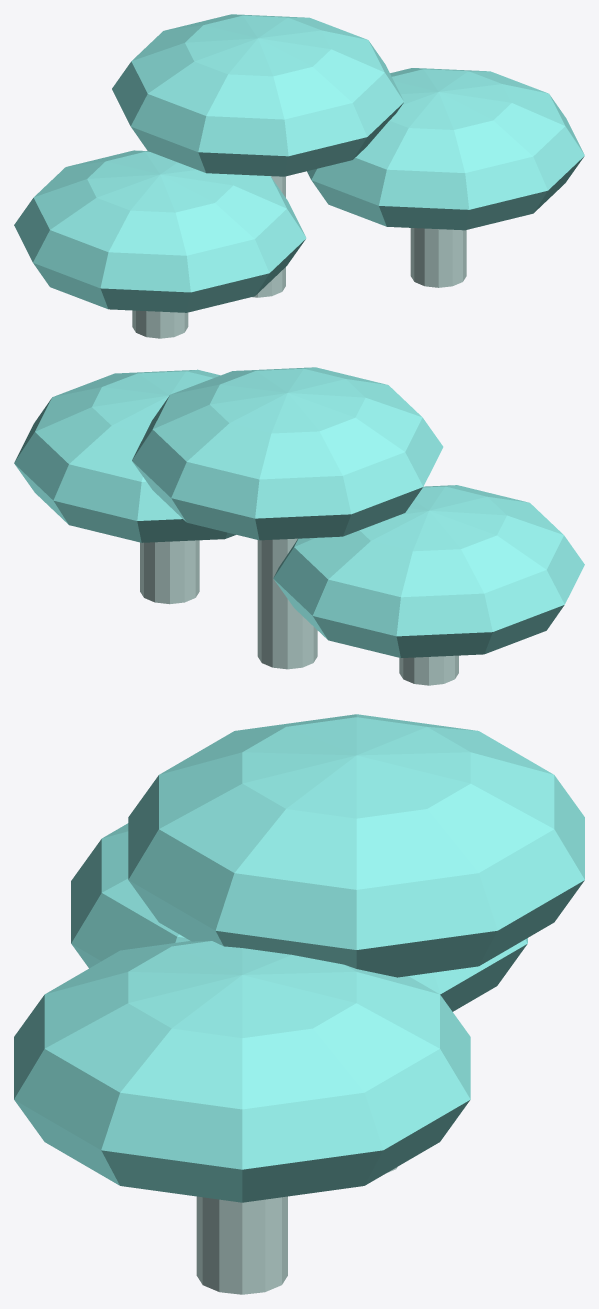
File: glow_mushrooms.glb
The picture shows the model from 3 angles, top to bottom: view 1: azimuth 30°, elevation 25°; view 2: azimuth 150°, elevation 25°; view 3: azimuth 270°, elevation 25°; orthographic projection. The views are drawn at different scales.
Visible parts, largest first — view 1: cap (×3), stem (×3); view 2: cap (×3), stem (×3); view 3: cap (×3), stem.
Part boxes in pixels (x1=…): cap (×3): x1=14, y1=14, x2=584, y2=312; stem (×3): x1=132, y1=176, x2=466, y2=338; cap (×3): x1=14, y1=367, x2=584, y2=657; stem (×3): x1=140, y1=538, x2=458, y2=685; cap (×3): x1=14, y1=714, x2=584, y2=1202; stem: x1=196, y1=1196, x2=287, y2=1294.
Size of the model in its own units: 1.7 by 0.78 by 0.9989.
